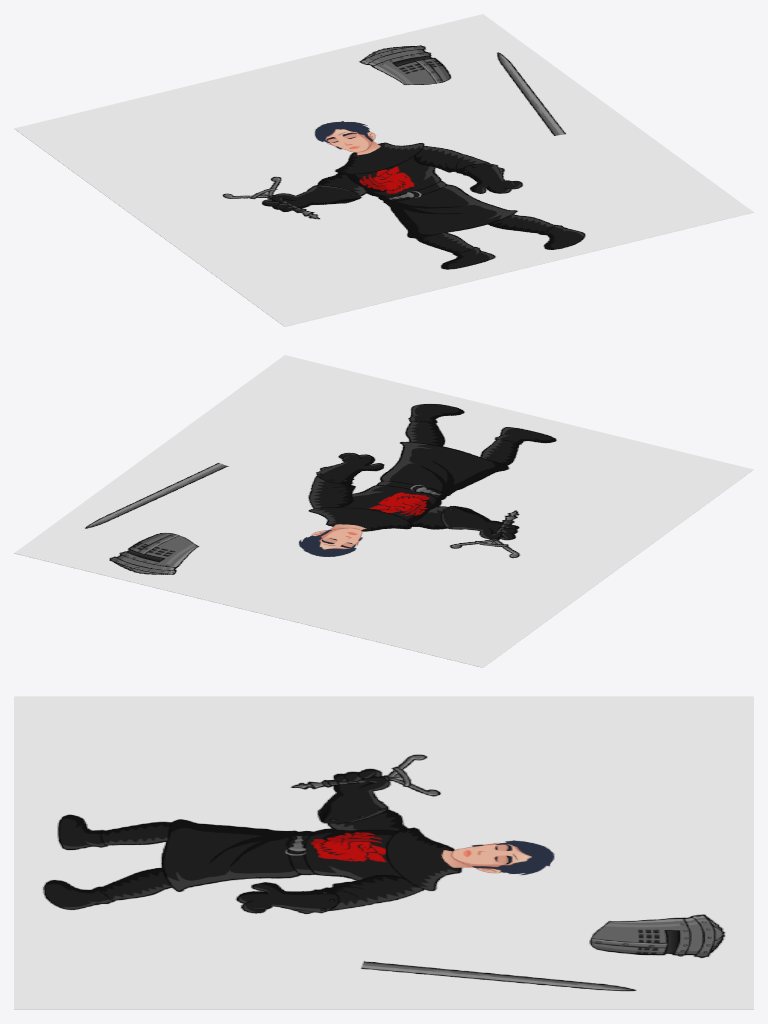
File: Level 2 Toilet Tishu.fbx
The picture shows the model from 3 angles, top to bottom: view 1: azimuth 30°, elevation 25°; view 2: azimuth 150°, elevation 25°; view 3: azimuth 270°, elevation 25°; orthographic projection. The views are drawn at different scales.
Parts seen in each view (by area): view 1: ext, main; view 2: ext, main; view 3: ext, main.
Part boxes in pixels (<box>): ext: <box>14,14,753,326</box>; main: <box>308,195,472,292</box>; ext: <box>14,355,753,667</box>; main: <box>449,423,612,520</box>; ext: <box>14,696,753,1009</box>; main: <box>14,790,334,821</box>.
Bounding box in the file's own units: 2400 × 1 × 2400.
